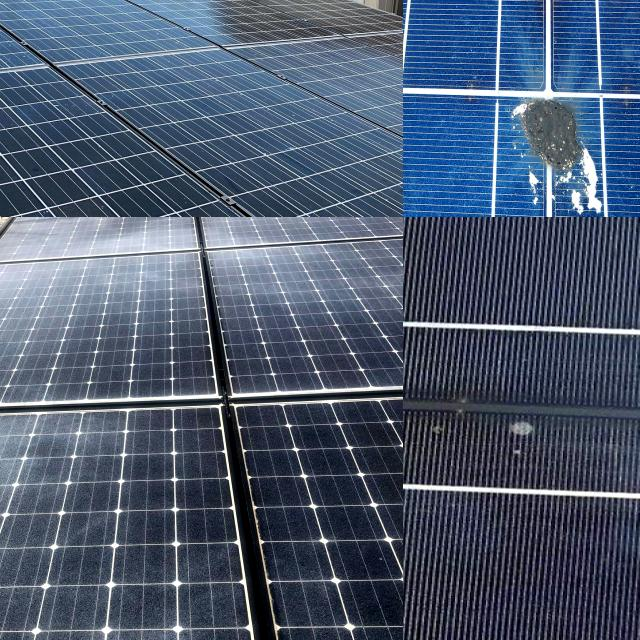bird: (487, 87, 619, 217)
